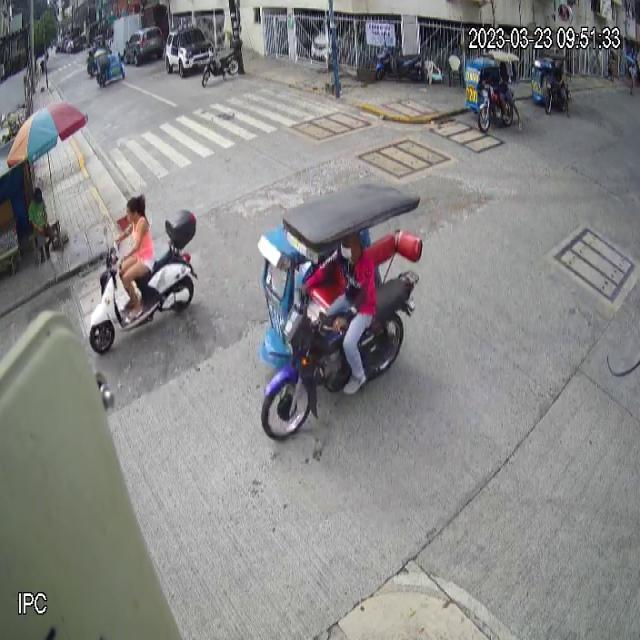Motorcycle: (88, 207, 198, 356)
Tricycle: (258, 180, 424, 443), (464, 49, 520, 132), (529, 52, 573, 116)
